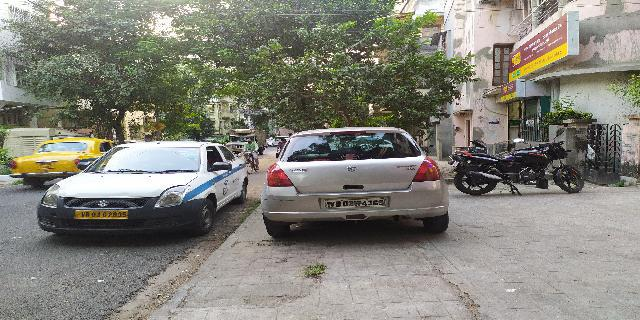Car: (259, 126, 455, 245), (34, 136, 248, 235)
Motorbike: (443, 141, 600, 194)
